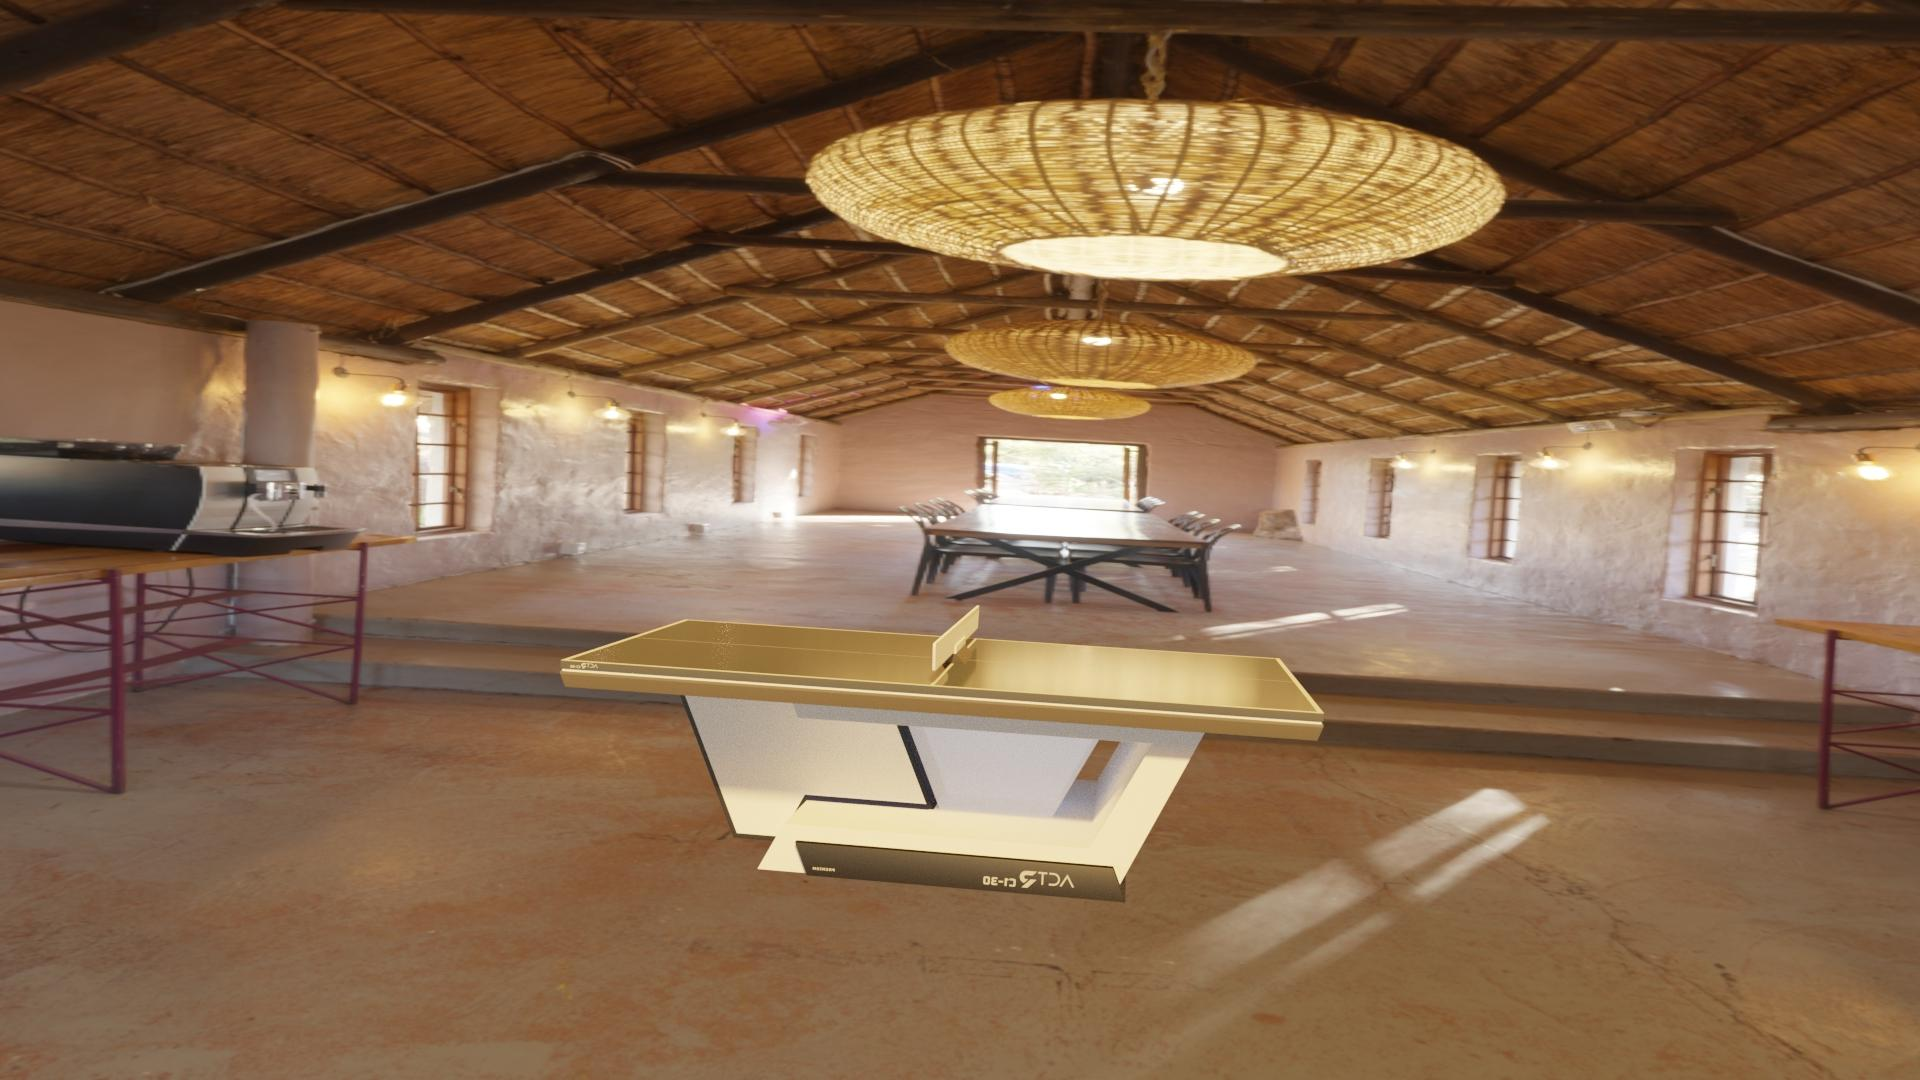table: (568, 620, 1317, 712)
